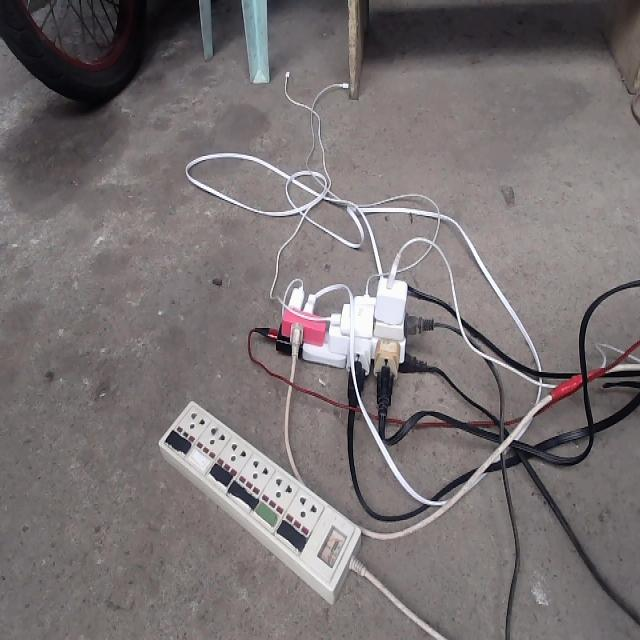-: (265, 261, 429, 396)
